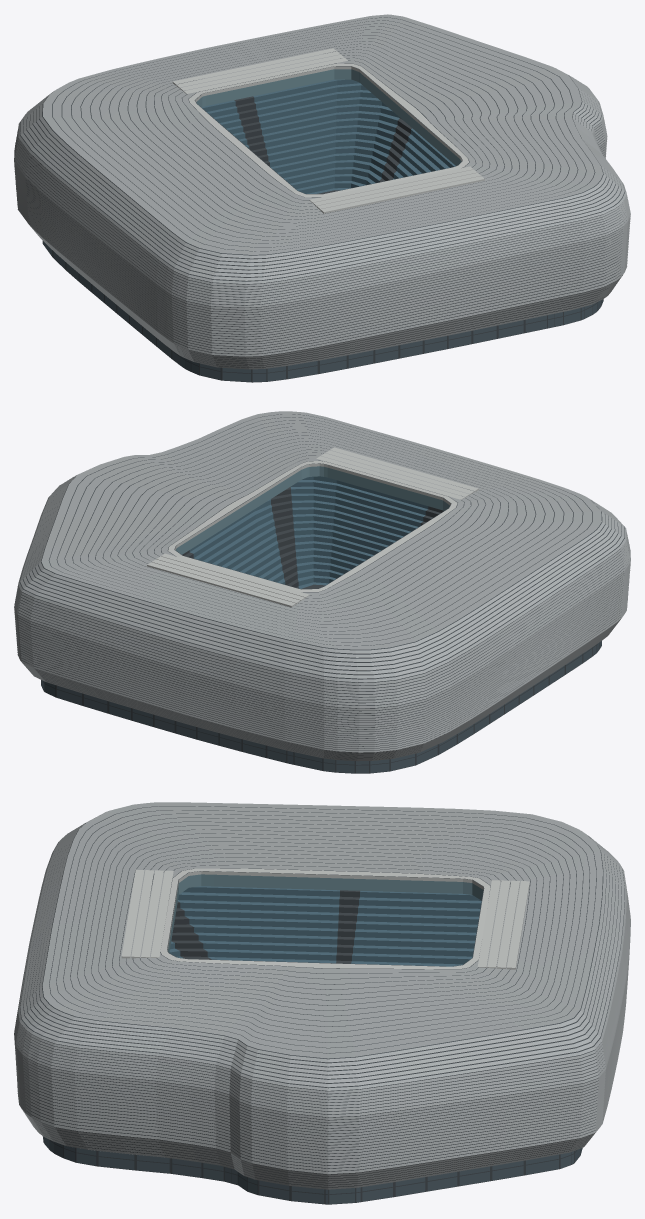
Rendered from santiago-bernabeu-near.glb.
3 renders of one model, top to bottom at view 1: azimuth 30°, elevation 25°; view 2: azimuth 150°, elevation 25°; view 3: azimuth 270°, elevation 25°, orthographic. The views are drawn at different scales.
Parts seen in each view (by area): view 1: santiago-bernabeu-0-silver, santiago-bernabeu-0-dark, santiago-bernabeu-0-seating, santiago-bernabeu-0-roof, santiago-bernabeu-0-glass, santiago-bernabeu-0-glow; view 2: santiago-bernabeu-0-silver, santiago-bernabeu-0-dark, santiago-bernabeu-0-seating, santiago-bernabeu-0-roof, santiago-bernabeu-0-glass, santiago-bernabeu-0-glow; view 3: santiago-bernabeu-0-silver, santiago-bernabeu-0-dark, santiago-bernabeu-0-seating, santiago-bernabeu-0-roof, santiago-bernabeu-0-glass, santiago-bernabeu-0-glow.
Boxes of the visible parts, x1,y1,x2,y2 form: santiago-bernabeu-0-silver: [14, 14, 630, 369]; santiago-bernabeu-0-dark: [18, 17, 626, 382]; santiago-bernabeu-0-seating: [202, 79, 455, 193]; santiago-bernabeu-0-roof: [172, 48, 484, 213]; santiago-bernabeu-0-glass: [43, 241, 603, 382]; santiago-bernabeu-0-glow: [196, 69, 461, 165]; santiago-bernabeu-0-silver: [14, 411, 630, 761]; santiago-bernabeu-0-dark: [18, 414, 624, 773]; santiago-bernabeu-0-seating: [189, 476, 428, 588]; santiago-bernabeu-0-roof: [147, 447, 478, 607]; santiago-bernabeu-0-glass: [41, 641, 601, 773]; santiago-bernabeu-0-glow: [175, 466, 449, 554]; santiago-bernabeu-0-silver: [14, 802, 630, 1189]; santiago-bernabeu-0-dark: [18, 806, 624, 1204]; santiago-bernabeu-0-seating: [169, 886, 481, 966]; santiago-bernabeu-0-roof: [121, 868, 529, 969]; santiago-bernabeu-0-glass: [43, 1136, 582, 1204]; santiago-bernabeu-0-glow: [168, 874, 483, 952].
Size of the model in its own units: 240 by 60 by 222.
